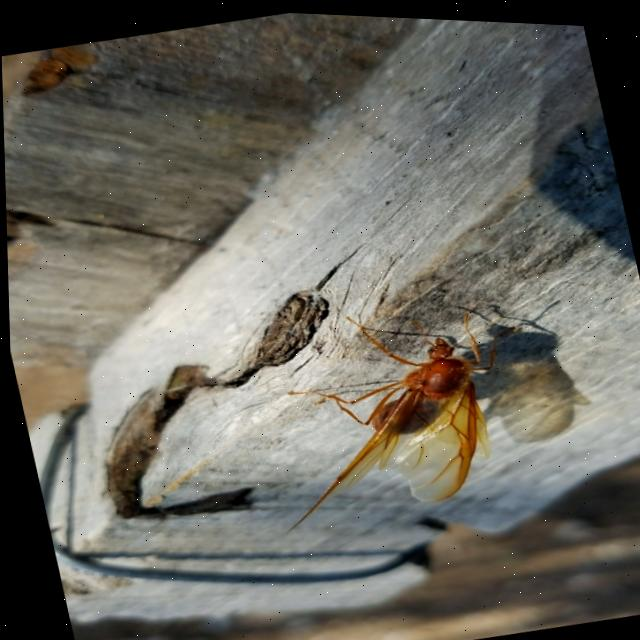Alive-Male-Alate: (240, 276, 558, 539)
